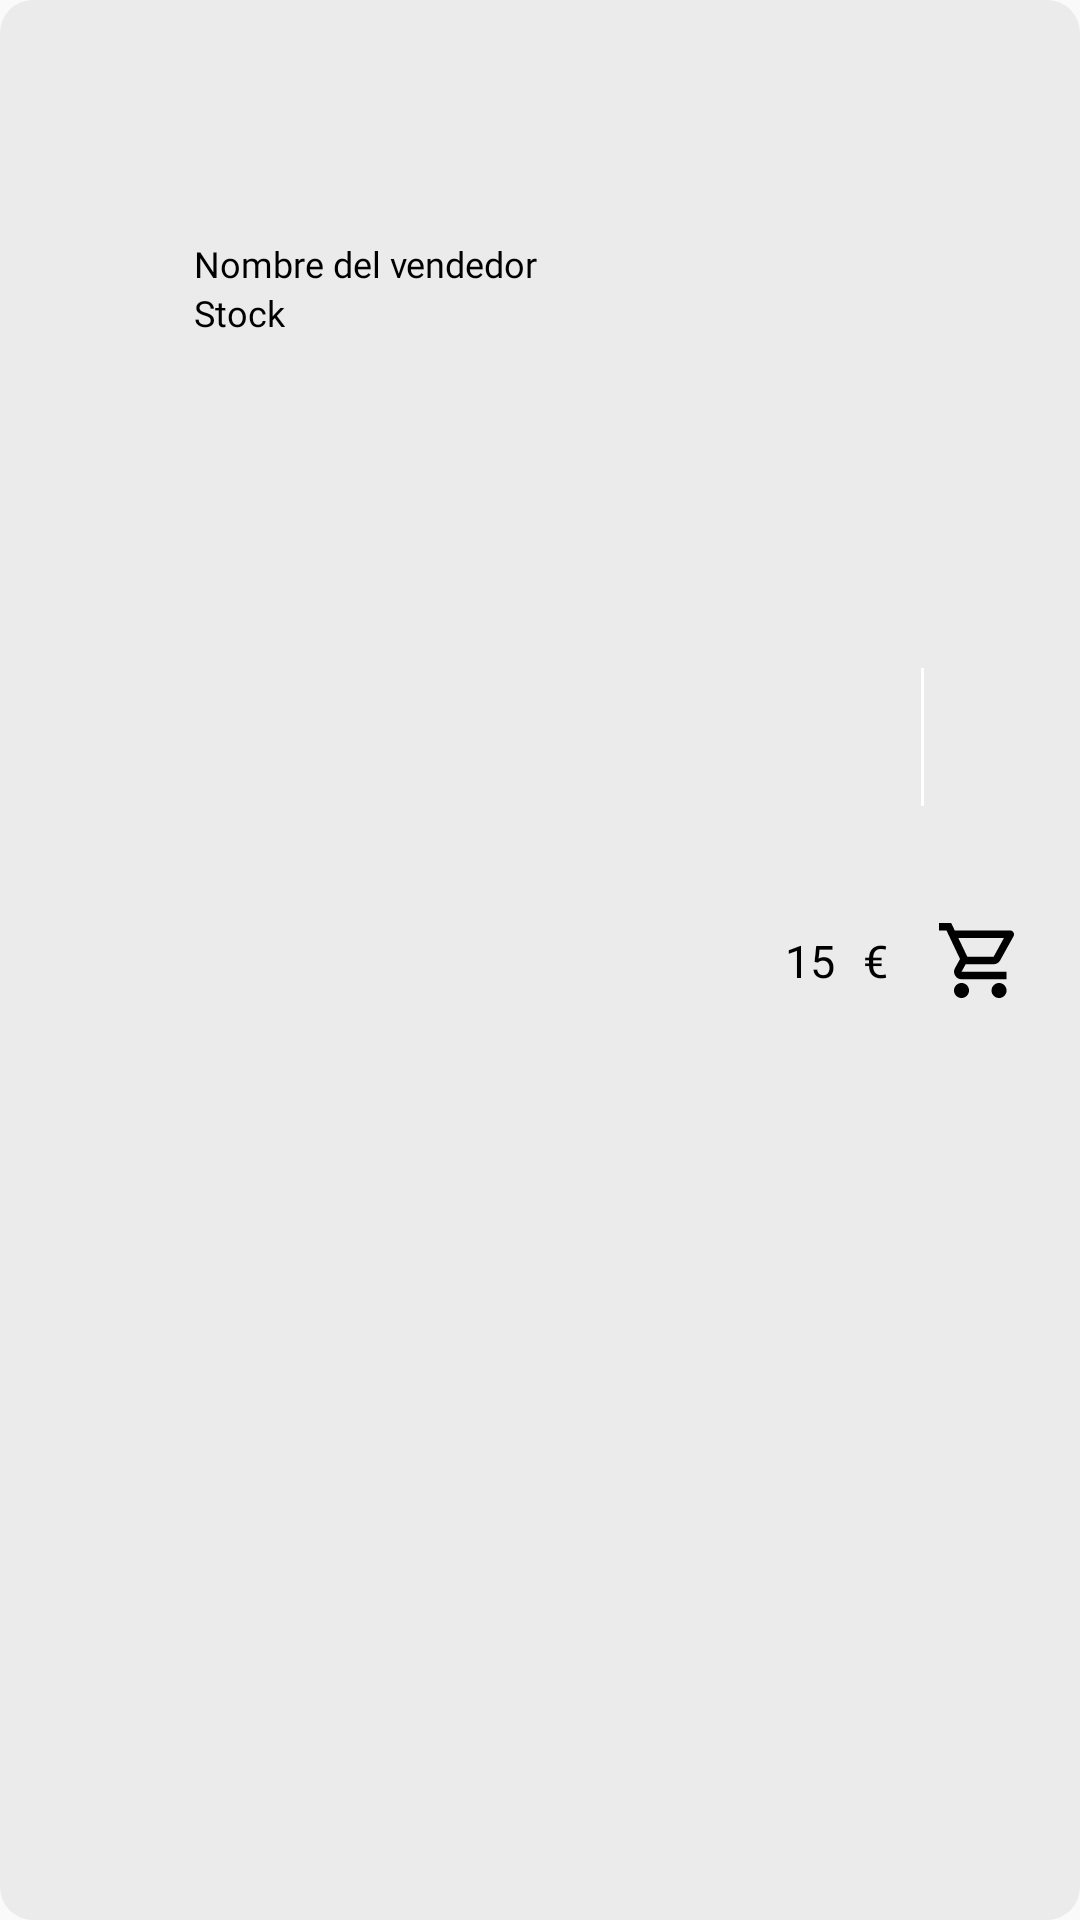

Screen size 1080x1920. Icon name, then its center in pixels as [x,y]:
shopping cart: [976,960]
